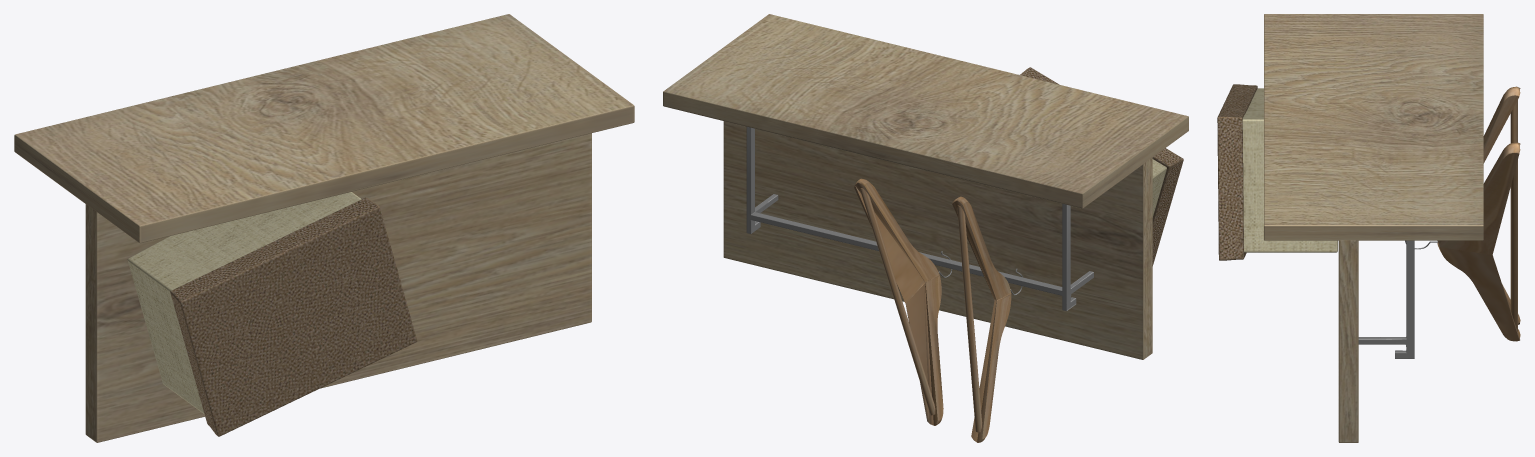
File: raw_model.glb
The picture shows the model from 3 angles, left to right: view 1: azimuth 30°, elevation 25°; view 2: azimuth 150°, elevation 25°; view 3: azimuth 270°, elevation 25°; orthographic projection. The views are drawn at different scales.
Visible parts, largest first — view 1: raw_model.008; view 2: raw_model.008; view 3: raw_model.008.
Boxes of the visible parts, left/top/right/bottom form: raw_model.008: left=14, top=14, right=634, bottom=442; raw_model.008: left=663, top=14, right=1188, bottom=442; raw_model.008: left=1217, top=14, right=1520, bottom=442.
Bounding box in the file's own units: 0.75 × 0.4412 × 0.4536.
1 material, 1 textured.
